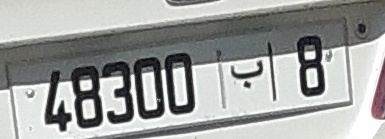0: (165, 49, 197, 116), (134, 55, 165, 122)
3: (101, 58, 134, 125)
4: (37, 68, 75, 135)
8: (294, 32, 328, 100), (73, 62, 104, 131)
b: (227, 57, 267, 91)
